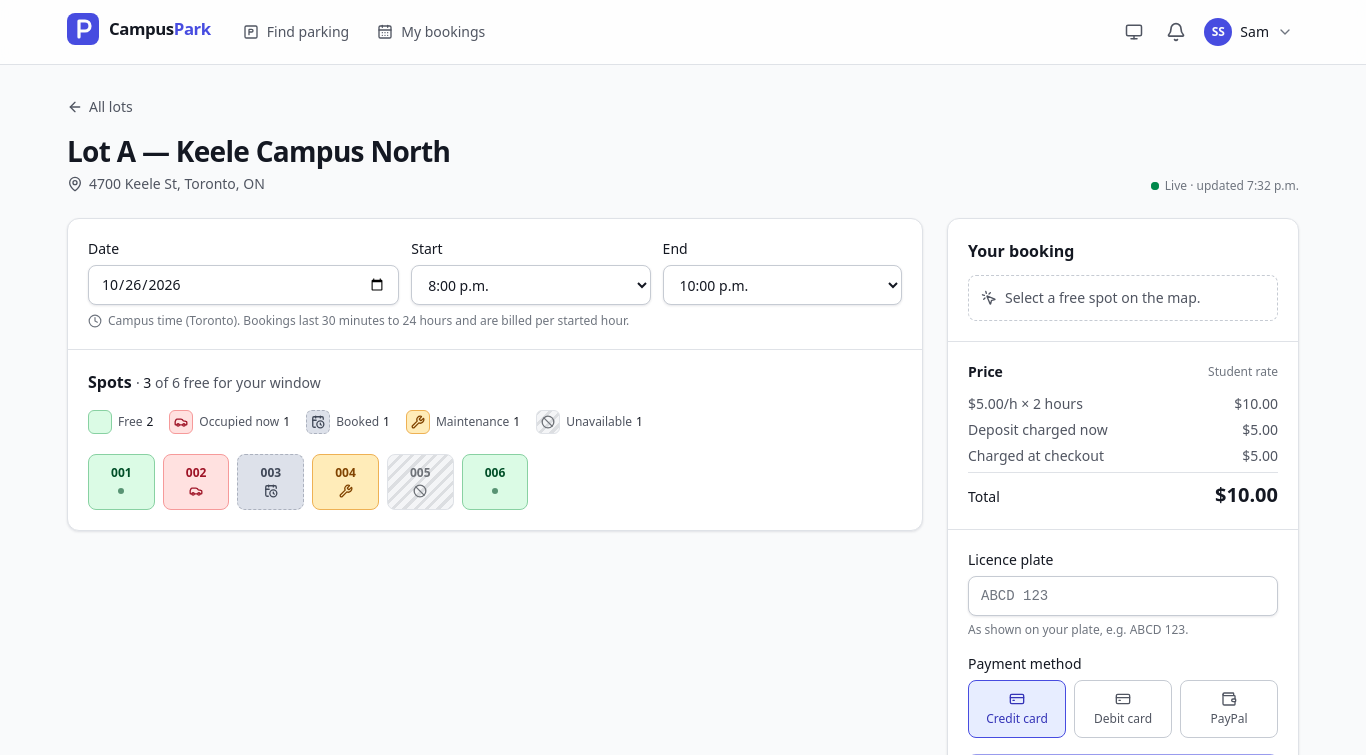
Test: booking form › renders a friendly message when the spot was taken meanwhile (409)
The width and height of the screenshot is (1366, 755).
Click the radio button named "Spot A-001, Free" at (121, 482), box [88, 454, 155, 510]
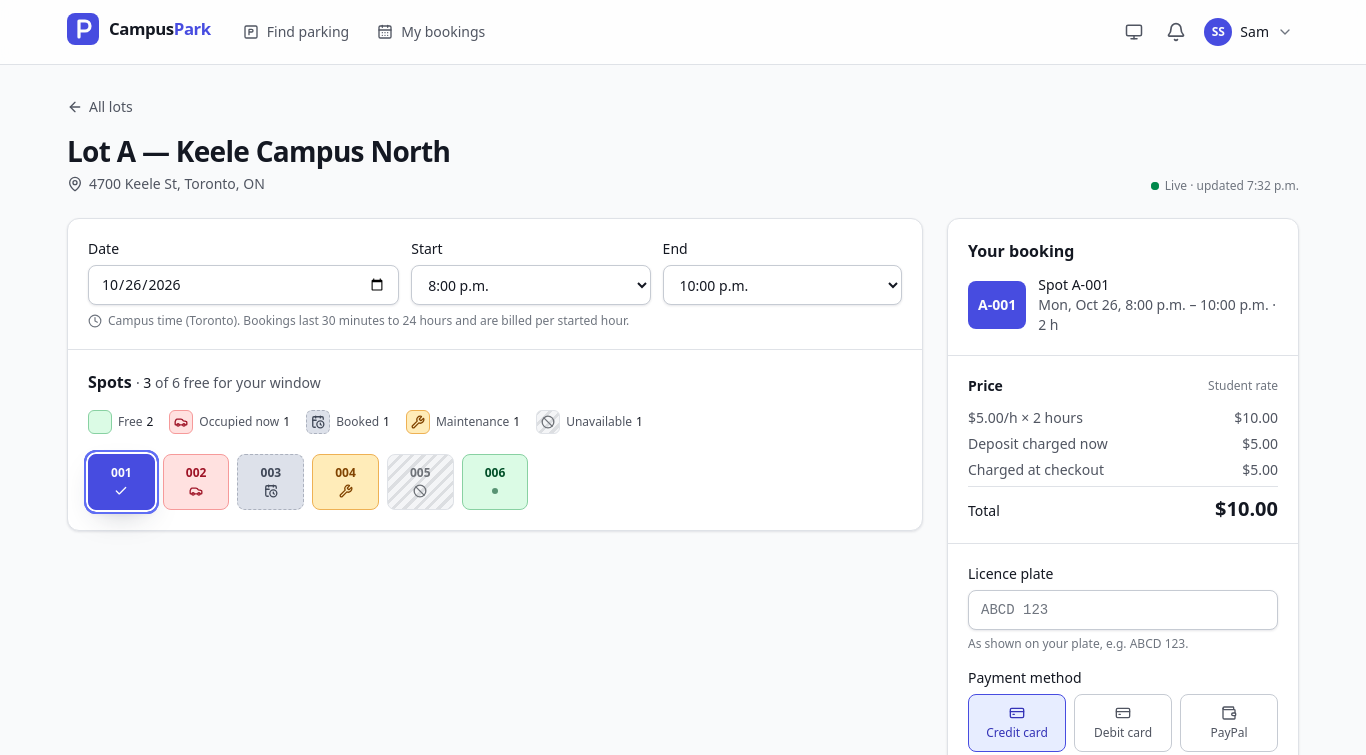
Type "abcd 123" into the field labelled "Licence plate" at (1123, 610), box [968, 590, 1278, 630]
(page scrolled)
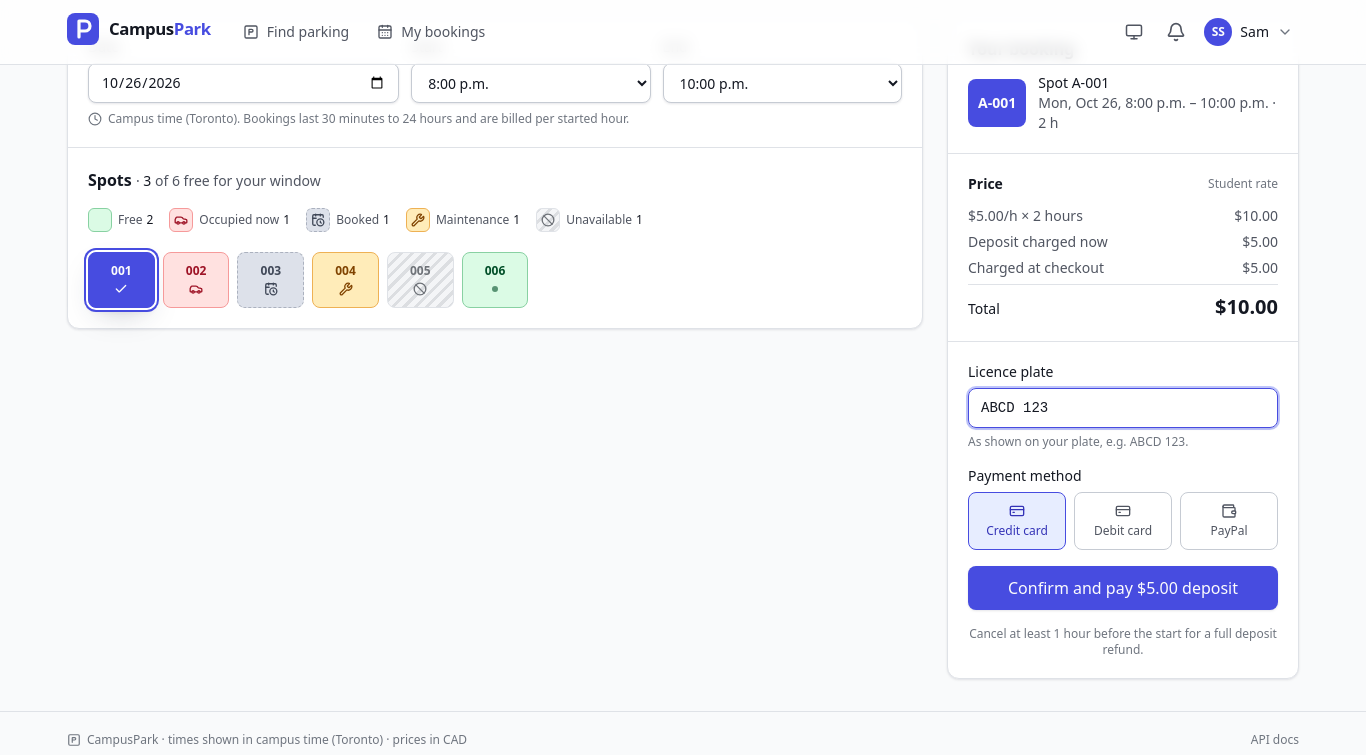
Click the button "Confirm and pay $5.00 deposit" at (1123, 588), box [968, 566, 1278, 610]
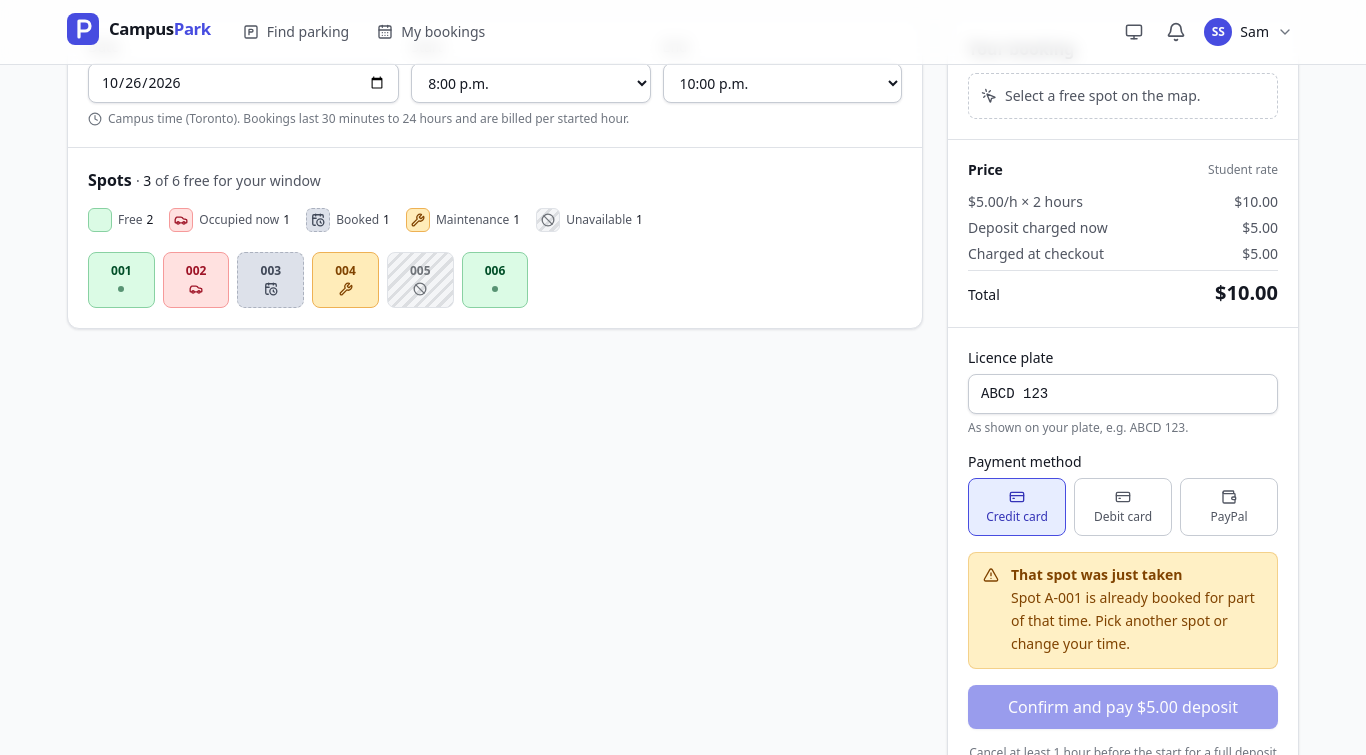
Expected: the element that starts with "That spot was just taken" shows "Spot A-001 is already booked for part of that time. Pick another spot or change your time.", [1011, 588, 1255, 653]
Expected: the text "Select a free spot on the map." is shown, [968, 73, 1278, 119]
